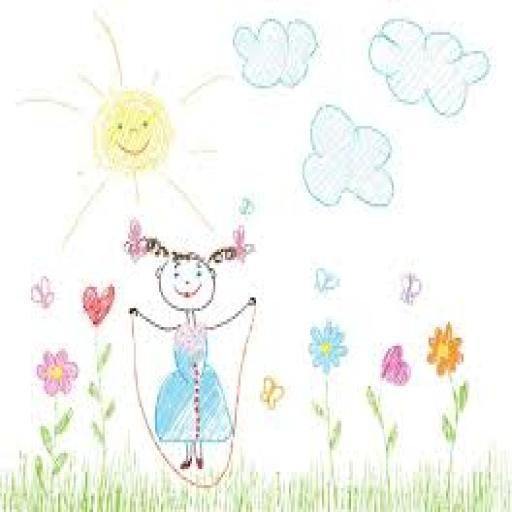person: (118, 210, 265, 486)
